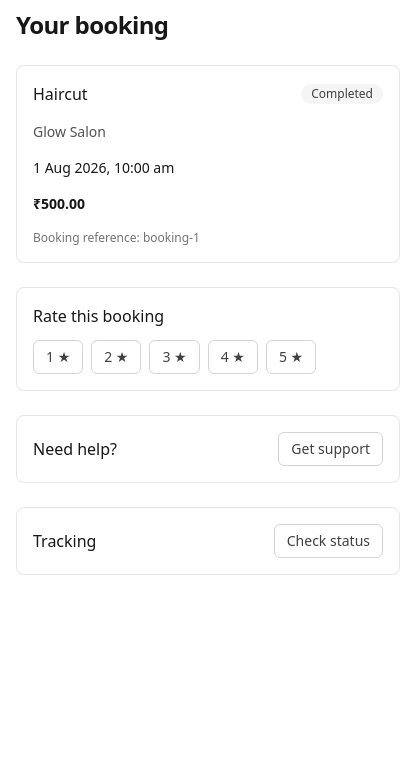
Test: BookingStatusPage › shows a failure state with retry when rating submission fails
Check: the text "Rate this booking" is shown, box [33,305,164,327]
Click the button named "Rate 3 stars" at (174, 357), box [149,340,200,374]
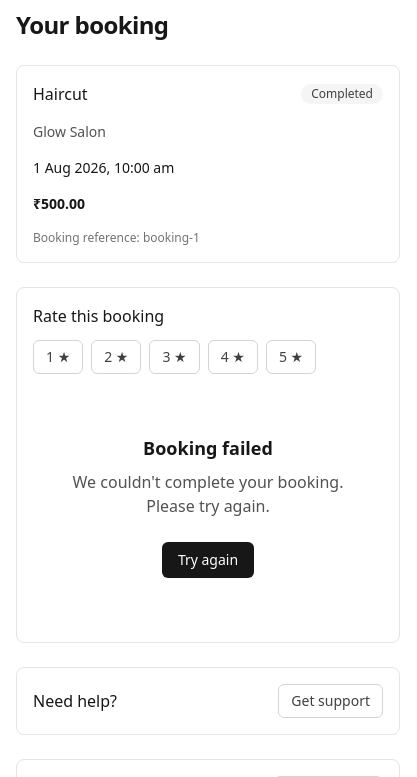
Check: the heading "Booking failed" is shown, box [143,434,273,462]
